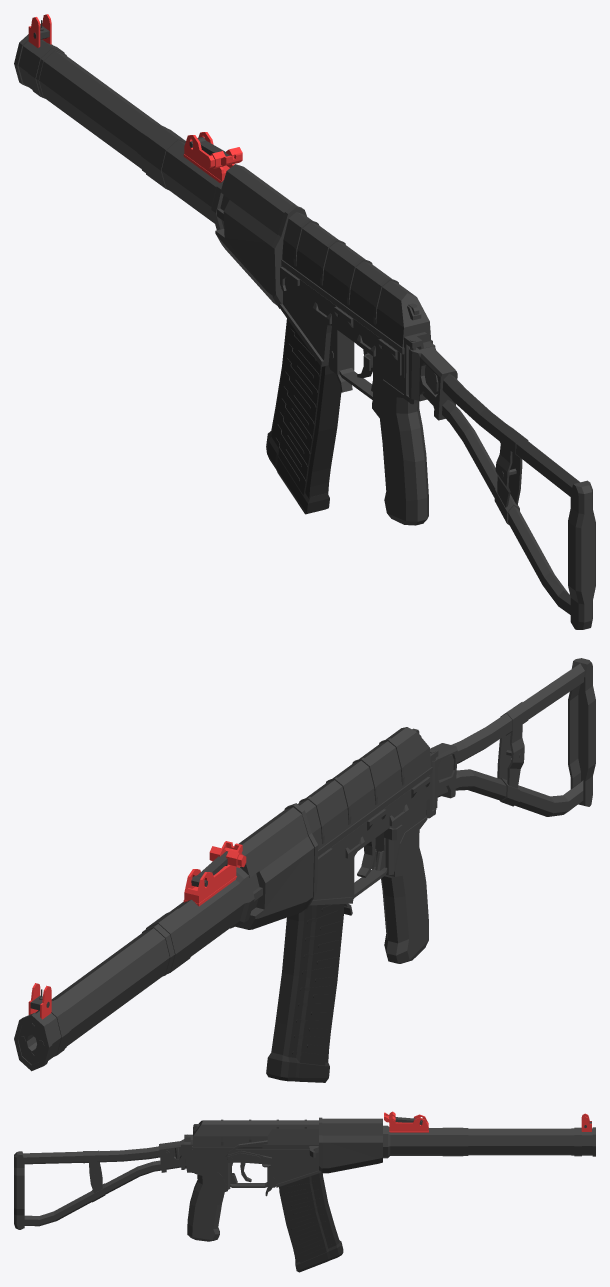
Rendered from fusil_16.glb.
3 renders of one model, top to bottom at view 1: azimuth 30°, elevation 25°; view 2: azimuth 150°, elevation 25°; view 3: azimuth 270°, elevation 25°, orthographic. The views are drawn at different scales.
Visible parts, largest first — view 1: p0_paint, p69_mag, p22_paint, p17_paint, p49_paint, p68_paint, p57_paint, p62_paint, p23_paint, p55_paint, p21_paint, p10_del (+1 smaller); view 2: p0_paint, p69_mag, p22_paint, p17_paint, p49_paint, p68_paint, p57_paint, p62_paint, p23_paint, p21_paint, p10_del, p55_paint (+3 smaller); view 3: p0_paint, p69_mag, p17_paint, p22_paint, p49_paint, p21_paint, p57_paint, p62_paint, p20_paint, p68_paint, p55_paint, p48_paint (+4 smaller).
Part boxes in pixels (left/top/right/bottom): p0_paint: left=14, top=34, right=229, bottom=230; p69_mag: left=266, top=319, right=341, bottom=514; p22_paint: left=281, top=212, right=432, bottom=354; p17_paint: left=215, top=164, right=306, bottom=308; p49_paint: left=372, top=379, right=428, bottom=525; p68_paint: left=568, top=480, right=595, bottom=629; p57_paint: left=423, top=392, right=570, bottom=614; p62_paint: left=442, top=373, right=579, bottom=496; p23_paint: left=281, top=266, right=401, bottom=375; p55_paint: left=408, top=346, right=457, bottom=420; p21_paint: left=278, top=291, right=404, bottom=377; p10_del: left=183, top=132, right=234, bottom=182; p0_paint: left=14, top=867, right=259, bottom=1071; p69_mag: left=266, top=904, right=344, bottom=1082; p22_paint: left=298, top=727, right=432, bottom=856; p17_paint: left=225, top=803, right=318, bottom=929; p49_paint: left=381, top=816, right=428, bottom=963; p68_paint: left=568, top=658, right=595, bottom=806; p57_paint: left=437, top=769, right=583, bottom=816; p62_paint: left=451, top=663, right=584, bottom=763; p23_paint: left=318, top=775, right=430, bottom=878; p21_paint: left=309, top=774, right=431, bottom=905; p10_del: left=183, top=864, right=236, bottom=906; p55_paint: left=430, top=743, right=457, bottom=809; p0_paint: left=383, top=1125, right=595, bottom=1158; p69_mag: left=279, top=1172, right=343, bottom=1272; p17_paint: left=319, top=1117, right=382, bottom=1173; p22_paint: left=192, top=1120, right=318, bottom=1152; p49_paint: left=187, top=1172, right=227, bottom=1241; p21_paint: left=192, top=1148, right=321, bottom=1187; p57_paint: left=24, top=1160, right=181, bottom=1226; p62_paint: left=22, top=1146, right=159, bottom=1164; p20_paint: left=262, top=1129, right=318, bottom=1149; p68_paint: left=14, top=1151, right=24, bottom=1229; p55_paint: left=159, top=1139, right=185, bottom=1172; p48_paint: left=192, top=1162, right=230, bottom=1189.
Size of the model in its own units: 0.0583 by 0.2573 by 0.875.
